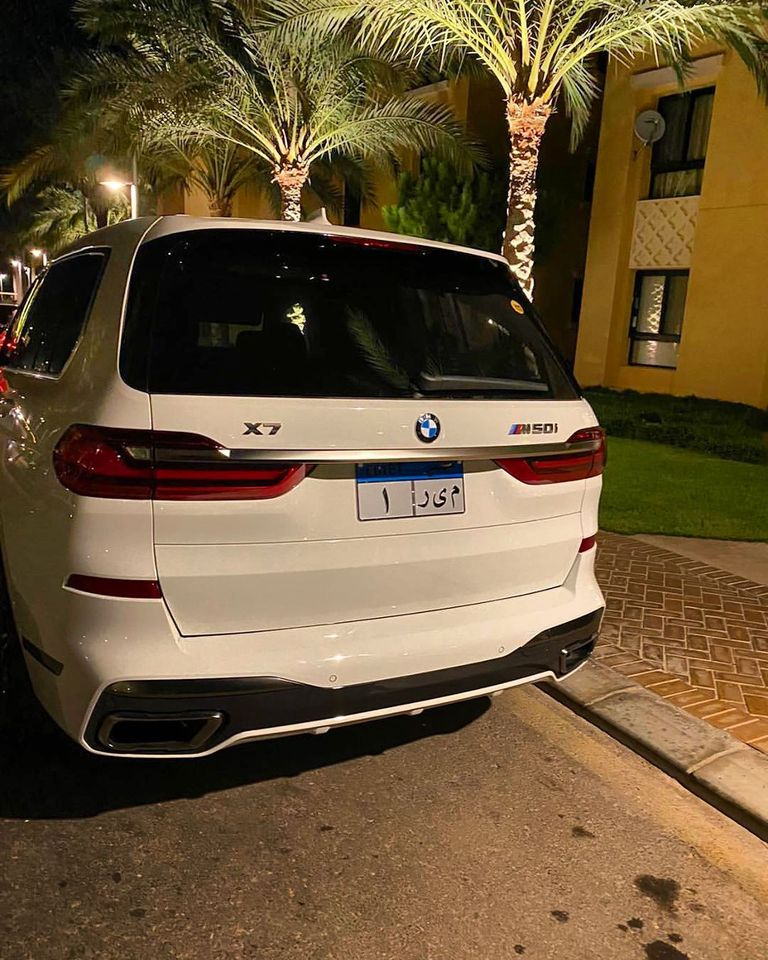carpl: (360, 462, 477, 519)
